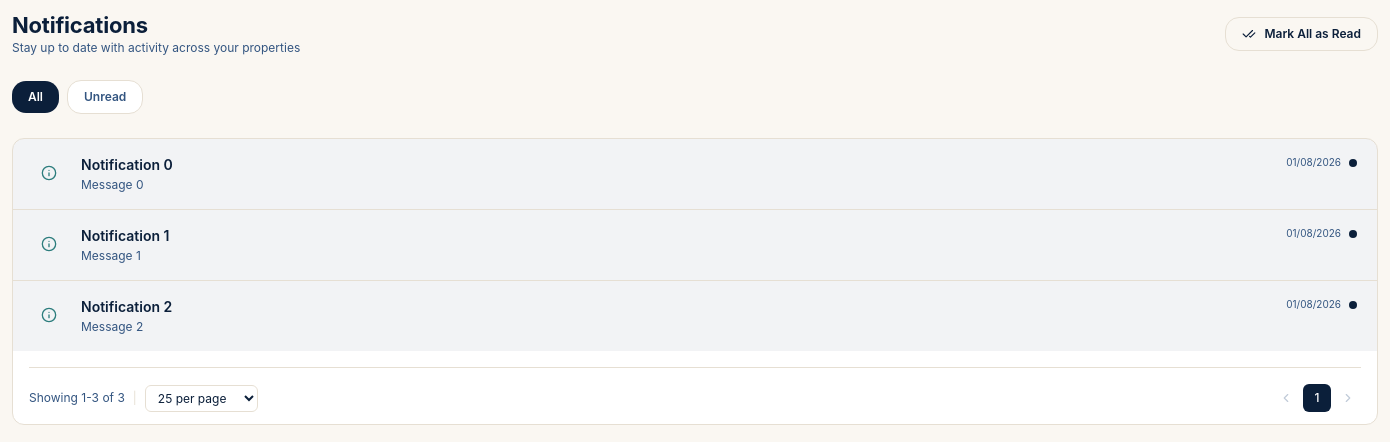
NotificationsPage pagination › does not let an in-flight unread refetch clobber the All tab
Check: the text "Notification 0" is shown, box [81,155,173,175]
Click the button "Unread".
click(105, 97)  # box [67,80,143,114]
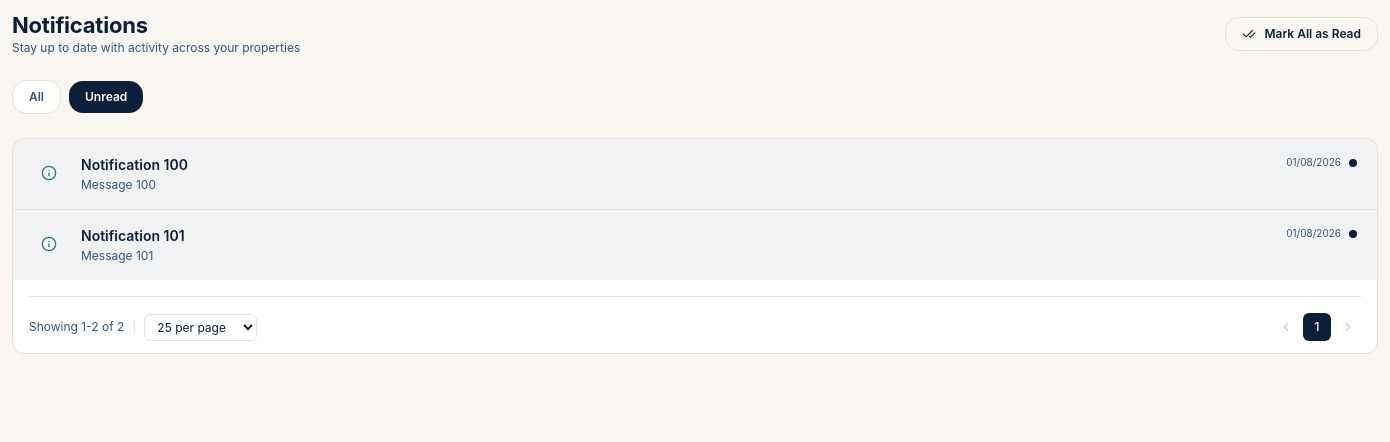
Check: the text "Notification 100" is shown, box [81,155,188,175]
// Read a row — the unread refetch is now in flight — then switch to All.
Click the text "Message 100".
click(118, 185)  # box [81,177,156,192]
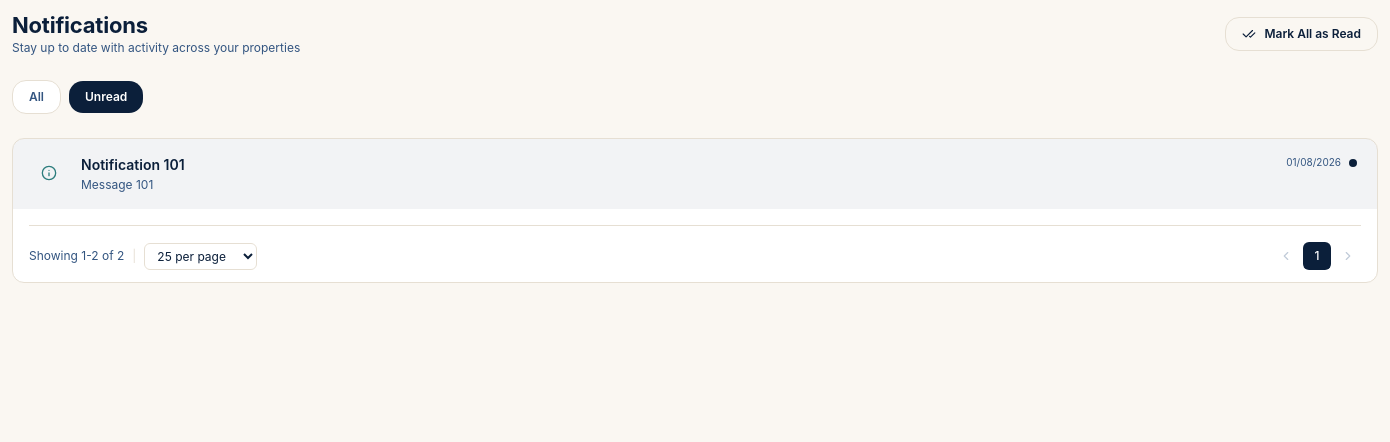
Click the button "All".
click(36, 97)  # box [12,80,61,114]
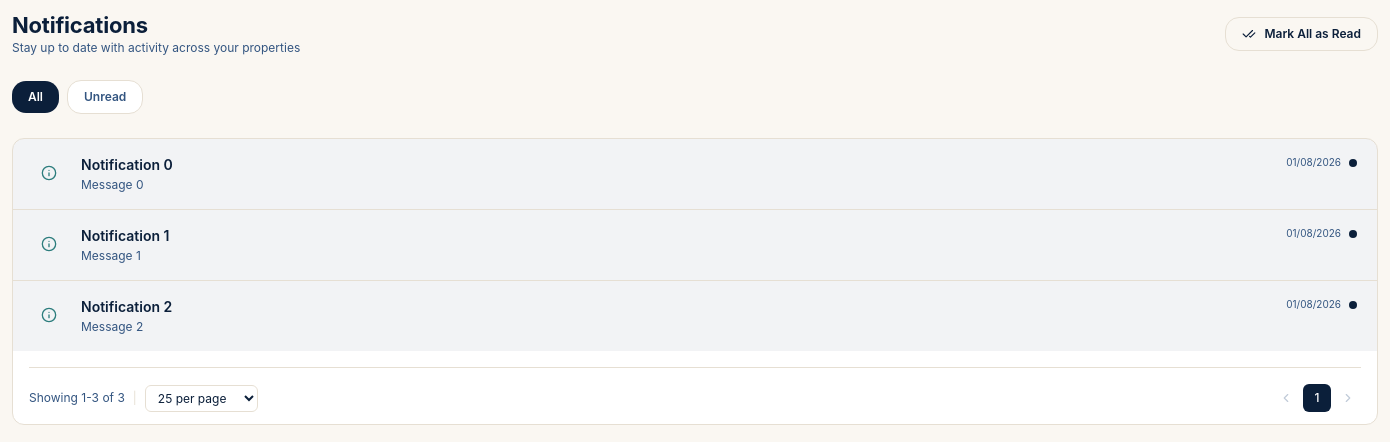
Check: the text "Notification 101" is gone
Check: the text "Notification 0" is shown, box [81,155,173,175]
Check: the text "Notification 2" is shown, box [81,297,172,317]
